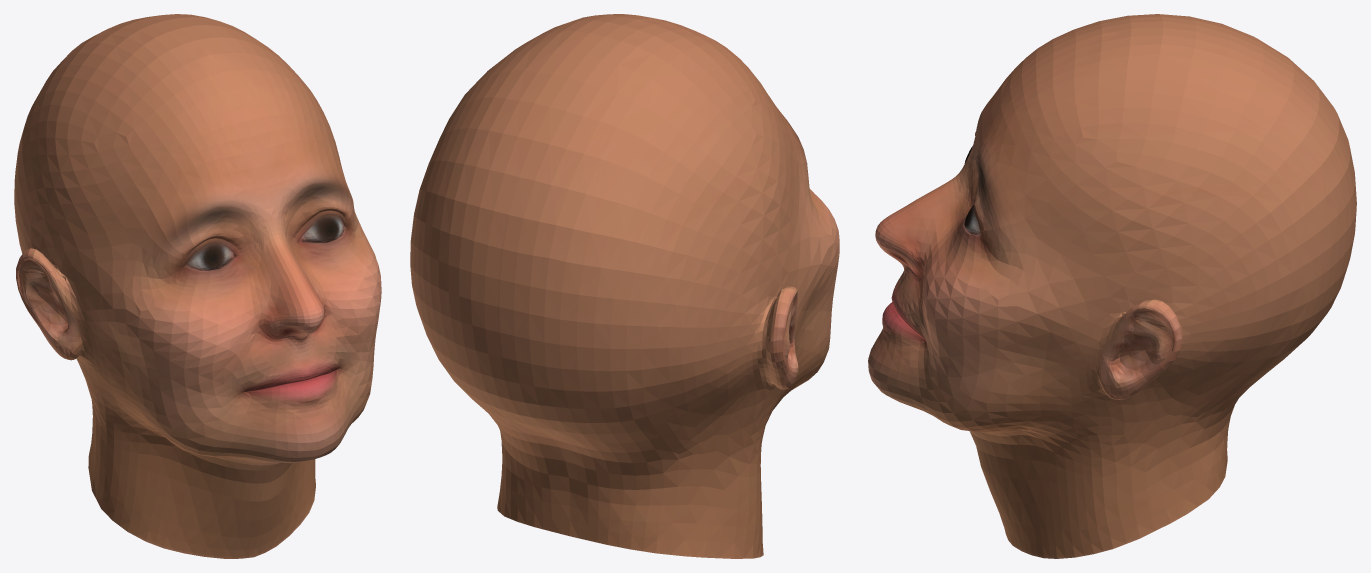
Rendered from face_oldfemale.obj.
3 views of the same model, side by side, from view 1: azimuth 30°, elevation 25°; view 2: azimuth 150°, elevation 25°; view 3: azimuth 270°, elevation 25° (orthographic). The views are drawn at different scales.
Parts seen in each view (by area): view 1: skin_hi, eyeR_hi, eyeL_hi; view 2: skin_hi; view 3: skin_hi.
Part boxes in pixels (bbox=[...]): skin_hi: bbox=[14, 14, 381, 558]; eyeR_hi: bbox=[186, 244, 233, 270]; eyeL_hi: bbox=[299, 215, 344, 242]; skin_hi: bbox=[410, 14, 839, 558]; skin_hi: bbox=[868, 14, 1356, 558].
Bounding box in the file's own units: 198 × 283 × 247.
Materials: 7 (7 with a texture image).
